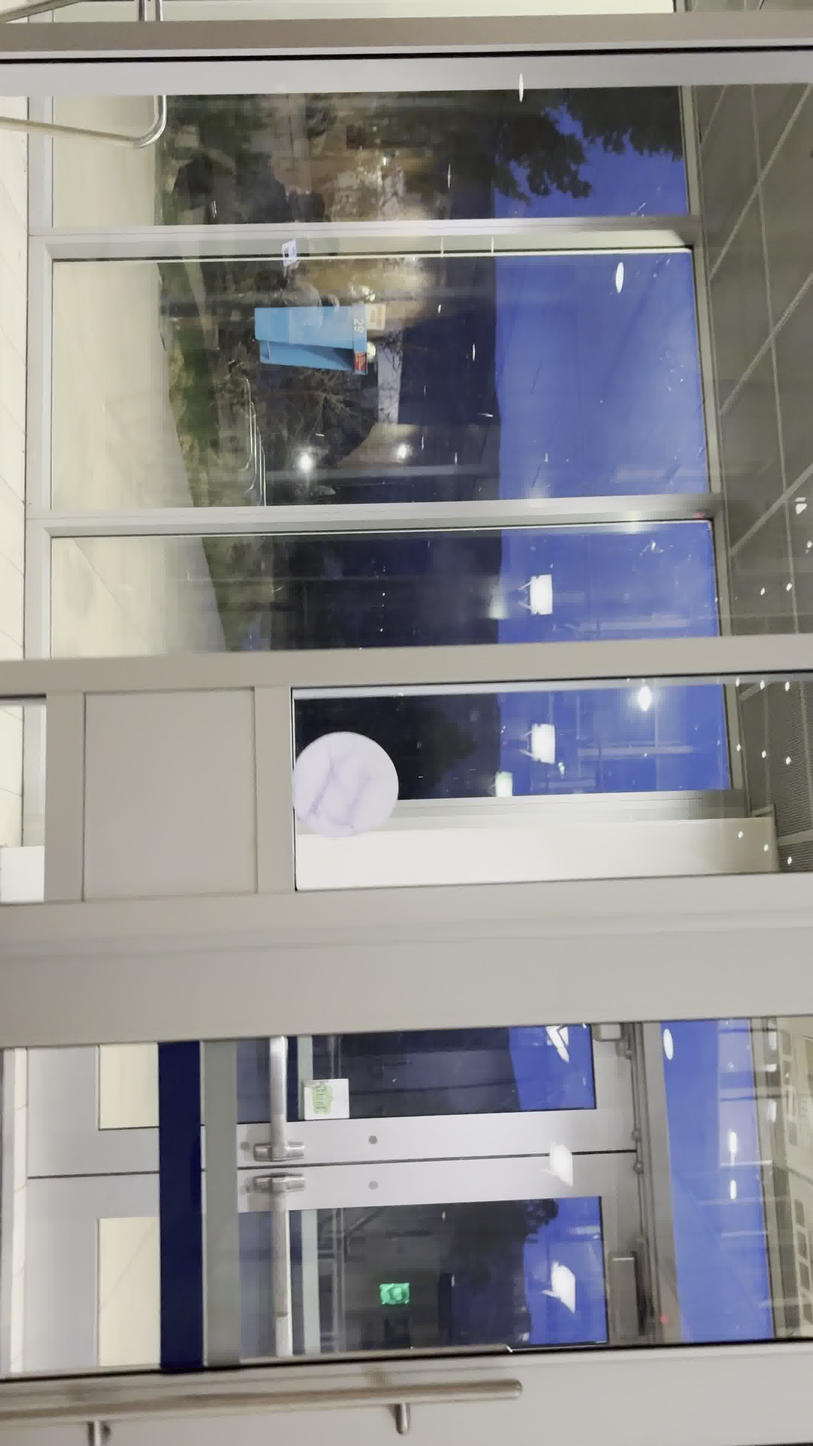Target: (289, 731, 400, 840)
